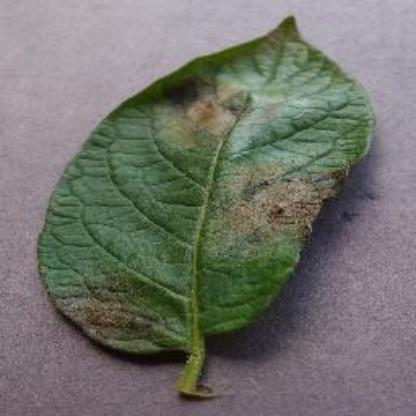Late-Blight: (16, 6, 402, 406)
